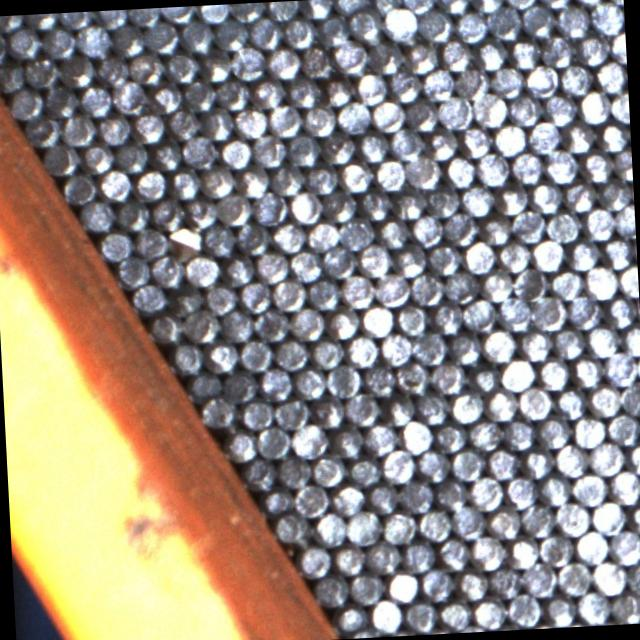tool: (321, 243, 358, 280), (112, 78, 148, 115), (59, 52, 96, 88), (258, 366, 294, 402), (590, 499, 626, 535), (270, 162, 306, 198), (366, 538, 402, 574), (544, 148, 580, 184), (430, 358, 466, 394), (518, 384, 554, 420), (417, 506, 453, 542), (574, 528, 610, 564), (556, 558, 592, 594), (292, 422, 328, 458), (344, 390, 380, 426), (452, 503, 488, 539), (420, 566, 456, 602), (506, 590, 542, 626), (248, 14, 284, 50), (322, 188, 358, 224), (508, 92, 544, 128), (592, 558, 628, 594), (572, 470, 608, 506), (304, 160, 340, 196), (554, 499, 590, 535), (289, 304, 325, 340), (320, 130, 356, 166), (414, 388, 450, 424), (530, 294, 566, 330), (326, 362, 362, 398), (324, 305, 360, 341), (589, 440, 625, 476), (363, 420, 399, 456), (95, 52, 131, 88), (522, 560, 558, 596), (216, 191, 252, 227), (252, 190, 288, 226), (436, 535, 472, 571), (338, 214, 374, 250), (256, 422, 292, 458), (128, 49, 164, 85), (381, 508, 417, 544), (230, 44, 266, 80), (75, 21, 111, 57), (294, 480, 330, 516), (472, 92, 508, 128), (338, 158, 374, 194), (380, 392, 416, 428), (438, 94, 474, 130), (272, 335, 308, 371), (63, 170, 99, 206), (42, 140, 78, 176), (254, 306, 290, 342), (274, 394, 310, 430), (434, 476, 470, 512), (42, 82, 78, 118), (204, 338, 240, 373), (313, 510, 348, 546), (218, 134, 253, 170), (407, 153, 442, 189), (398, 477, 434, 512), (110, 22, 146, 57), (358, 242, 393, 278), (343, 332, 379, 367), (132, 166, 167, 202), (368, 596, 403, 632), (521, 2, 556, 38), (201, 162, 236, 198), (358, 186, 393, 222), (402, 537, 437, 573), (348, 570, 384, 605), (166, 165, 202, 200), (429, 299, 464, 335), (238, 337, 274, 372), (355, 128, 390, 164), (471, 534, 506, 570), (346, 508, 381, 544), (252, 132, 287, 168), (164, 48, 199, 84), (469, 474, 504, 510), (527, 119, 562, 155), (418, 8, 454, 43), (302, 101, 338, 136), (292, 364, 328, 399), (222, 368, 258, 403), (348, 8, 384, 43), (536, 414, 572, 449), (503, 474, 538, 510), (395, 358, 430, 394), (448, 388, 484, 423), (432, 418, 467, 454), (540, 33, 576, 68), (486, 5, 522, 40), (340, 273, 375, 309), (220, 250, 255, 286), (472, 594, 507, 630), (375, 270, 410, 306), (536, 472, 572, 507), (593, 58, 628, 94), (115, 196, 150, 232), (202, 394, 238, 429), (555, 2, 590, 38), (506, 534, 541, 570), (576, 589, 612, 624), (314, 571, 350, 606), (408, 270, 444, 305), (236, 221, 272, 256), (602, 351, 638, 386), (542, 592, 577, 628), (466, 360, 502, 395), (288, 188, 323, 224), (268, 102, 304, 137), (596, 177, 632, 212), (371, 40, 406, 76), (286, 132, 322, 167), (480, 267, 516, 302), (236, 164, 272, 199), (130, 108, 166, 143), (180, 17, 214, 54), (476, 151, 511, 186), (7, 24, 42, 59), (481, 327, 516, 362), (535, 356, 570, 391), (484, 386, 519, 421), (41, 24, 76, 59), (237, 278, 272, 313), (98, 167, 133, 202), (492, 121, 527, 156), (529, 179, 564, 214), (458, 123, 493, 158), (426, 183, 461, 218), (24, 53, 59, 88), (467, 417, 502, 452), (501, 416, 536, 451), (267, 45, 302, 80), (114, 138, 149, 173), (312, 394, 347, 429), (151, 253, 186, 288), (446, 330, 481, 365), (329, 482, 364, 517), (306, 275, 341, 310), (437, 596, 472, 631), (385, 568, 420, 603), (605, 410, 640, 445), (494, 182, 529, 217), (553, 442, 588, 477), (393, 243, 428, 278), (380, 448, 415, 483), (496, 237, 531, 272), (371, 97, 406, 132), (443, 210, 478, 245), (392, 186, 427, 221), (169, 281, 204, 316), (462, 238, 496, 274), (146, 18, 180, 54), (518, 326, 552, 362), (542, 92, 578, 126), (522, 502, 556, 538), (306, 216, 340, 252), (412, 329, 446, 365), (300, 44, 334, 80), (586, 322, 620, 358), (512, 208, 548, 242), (79, 140, 115, 174), (308, 336, 344, 370), (376, 214, 412, 248), (215, 76, 251, 110), (250, 76, 286, 110), (78, 82, 112, 118), (564, 178, 598, 214), (132, 226, 168, 260), (202, 280, 238, 314), (584, 264, 618, 300), (394, 300, 428, 336), (426, 126, 460, 162), (274, 511, 310, 545), (271, 276, 307, 310), (182, 76, 216, 112), (454, 566, 490, 600), (450, 446, 486, 480), (182, 308, 218, 342), (310, 452, 346, 486), (182, 134, 218, 168), (524, 62, 558, 98), (546, 208, 582, 242), (551, 324, 585, 360), (346, 453, 382, 487), (334, 39, 368, 75), (148, 310, 184, 344), (218, 308, 254, 342), (554, 384, 588, 420), (488, 562, 522, 598), (538, 532, 574, 566), (498, 296, 532, 332), (232, 104, 268, 138), (8, 84, 42, 120), (514, 266, 550, 300), (378, 330, 412, 365), (374, 156, 408, 191), (298, 543, 332, 578), (184, 252, 218, 287), (488, 504, 522, 539), (582, 205, 616, 240), (255, 248, 290, 282), (510, 150, 545, 184), (590, 1, 624, 36), (398, 418, 432, 453), (202, 222, 237, 256), (288, 247, 322, 282), (442, 154, 477, 188), (81, 197, 115, 232), (460, 182, 495, 216), (366, 480, 400, 515), (188, 366, 222, 401), (454, 64, 488, 99), (571, 413, 606, 447), (577, 89, 611, 124), (568, 294, 602, 329), (240, 395, 274, 430), (26, 111, 60, 146), (360, 302, 394, 337), (588, 381, 622, 416), (332, 541, 366, 576), (149, 196, 183, 231), (428, 241, 462, 276), (214, 18, 248, 53), (384, 6, 418, 41), (98, 228, 133, 262), (550, 266, 584, 301), (479, 212, 514, 246), (532, 236, 566, 271), (315, 14, 350, 48), (404, 40, 439, 74), (406, 96, 440, 131), (444, 268, 478, 303), (184, 193, 218, 228), (602, 293, 636, 328), (149, 80, 184, 114), (388, 68, 422, 103), (500, 357, 534, 392), (600, 235, 634, 270), (336, 100, 371, 134), (96, 110, 130, 145), (415, 448, 450, 482), (558, 61, 592, 96), (61, 112, 96, 146), (285, 74, 320, 108), (330, 424, 364, 459), (519, 445, 554, 479), (390, 127, 425, 161), (117, 253, 151, 288), (224, 428, 258, 463), (607, 468, 640, 504), (411, 212, 445, 246), (362, 362, 396, 396), (133, 280, 167, 314), (404, 598, 438, 632), (576, 32, 610, 66), (353, 70, 387, 104), (439, 36, 473, 70), (422, 66, 456, 100), (570, 354, 604, 388), (562, 120, 596, 154), (596, 120, 630, 154), (474, 36, 508, 70), (454, 8, 488, 42), (485, 446, 519, 480), (198, 50, 232, 84), (282, 15, 316, 49), (276, 453, 310, 487), (508, 36, 542, 70), (489, 64, 523, 98), (462, 296, 496, 330), (566, 237, 600, 271), (200, 106, 234, 140), (168, 224, 202, 258), (242, 456, 276, 490), (170, 340, 204, 374), (319, 74, 354, 107), (609, 528, 640, 565), (272, 220, 306, 253), (580, 150, 614, 183), (150, 138, 183, 172), (167, 106, 200, 140), (334, 602, 368, 634), (262, 482, 294, 516), (610, 590, 640, 625), (0, 58, 26, 92), (611, 146, 633, 182), (613, 204, 636, 238), (266, 0, 300, 22), (618, 264, 640, 298), (231, 2, 265, 24), (609, 89, 630, 123), (620, 381, 640, 416), (198, 4, 232, 24), (95, 10, 129, 30), (620, 323, 640, 357), (128, 8, 162, 28), (58, 12, 94, 30), (608, 30, 627, 64), (301, 0, 334, 19), (162, 6, 197, 23), (23, 13, 58, 30), (369, 0, 402, 18), (624, 440, 640, 475), (334, 0, 367, 16), (471, 0, 504, 16), (436, 0, 471, 14), (627, 559, 640, 594), (627, 501, 640, 536), (401, 0, 435, 13), (0, 15, 23, 32), (504, 0, 538, 10), (537, 0, 572, 8), (0, 28, 7, 62), (573, 0, 606, 5)
